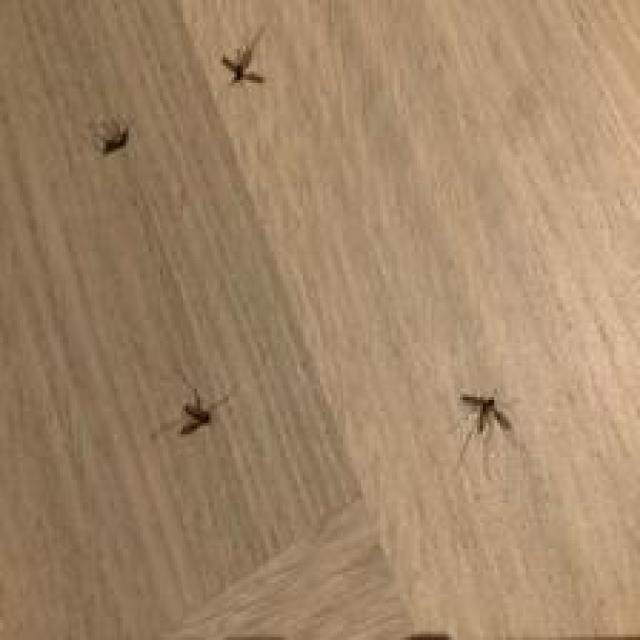Culex: (220, 24, 266, 87)
